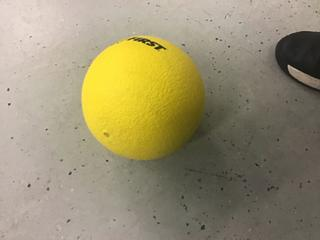power_cell: (79, 41, 207, 165)
